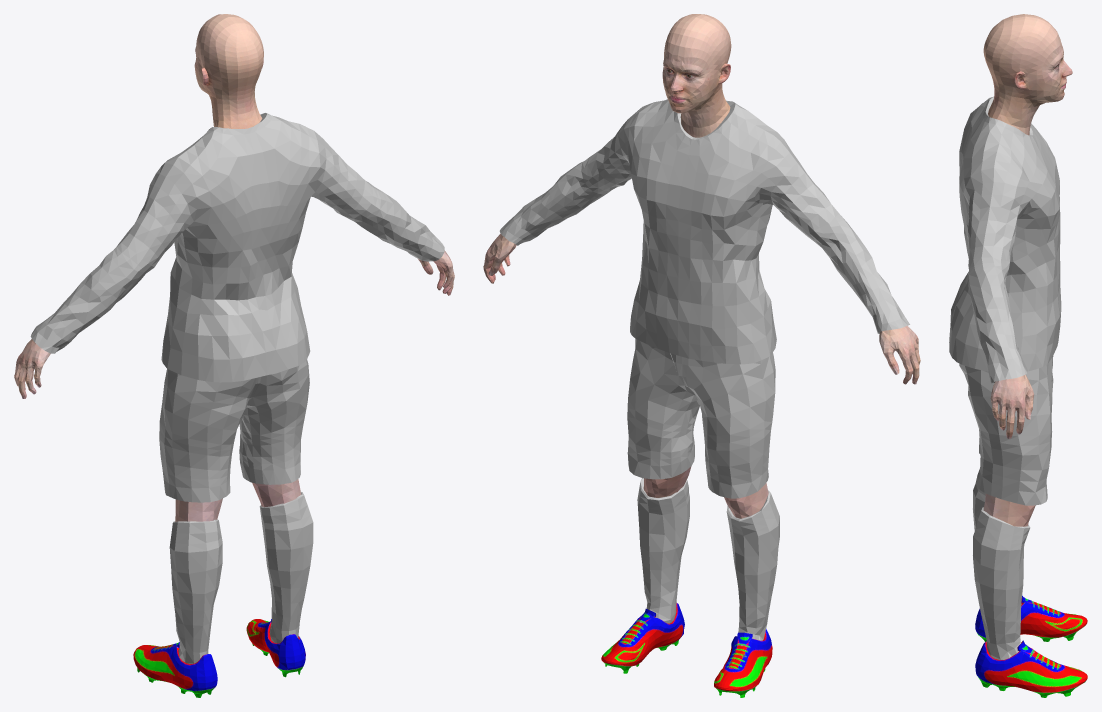
File: long-untucked.obj
The picture shows the model from 3 angles, left to right: view 1: azimuth 30°, elevation 25°; view 2: azimuth 150°, elevation 25°; view 3: azimuth 270°, elevation 25°; orthographic projection.
Parts seen in each view (by area): view 1: shirt.001, shorts, socks, head.003, boots.001, arms, knees.001; view 2: shirt.001, shorts, socks, head.003, boots.001, arms, knees.001; view 3: shirt.001, shorts, head.003, socks, boots.001, arms, knees.001.
Part boxes in pixels (x1,y1,x2,y2): shirt.001: (30, 113, 444, 382); shorts: (159, 359, 309, 502); socks: (169, 492, 313, 663); head.003: (194, 14, 263, 128); boots.001: (133, 619, 305, 697); arms: (14, 250, 454, 398); knees.001: (175, 479, 301, 521); shirt.001: (499, 99, 909, 364); shorts: (627, 339, 775, 498); socks: (637, 478, 779, 640); head.003: (662, 14, 731, 137); boots.001: (601, 603, 772, 697); arms: (483, 233, 920, 384); knees.001: (643, 466, 768, 518); shirt.001: (949, 96, 1061, 383); shorts: (959, 355, 1053, 505); head.003: (983, 14, 1072, 135); socks: (973, 469, 1030, 659); boots.001: (975, 595, 1087, 697); arms: (990, 374, 1034, 438); knees.001: (983, 494, 1035, 526).
Bounding box in the file's own units: 1.24 × 1.79 × 0.3474.
